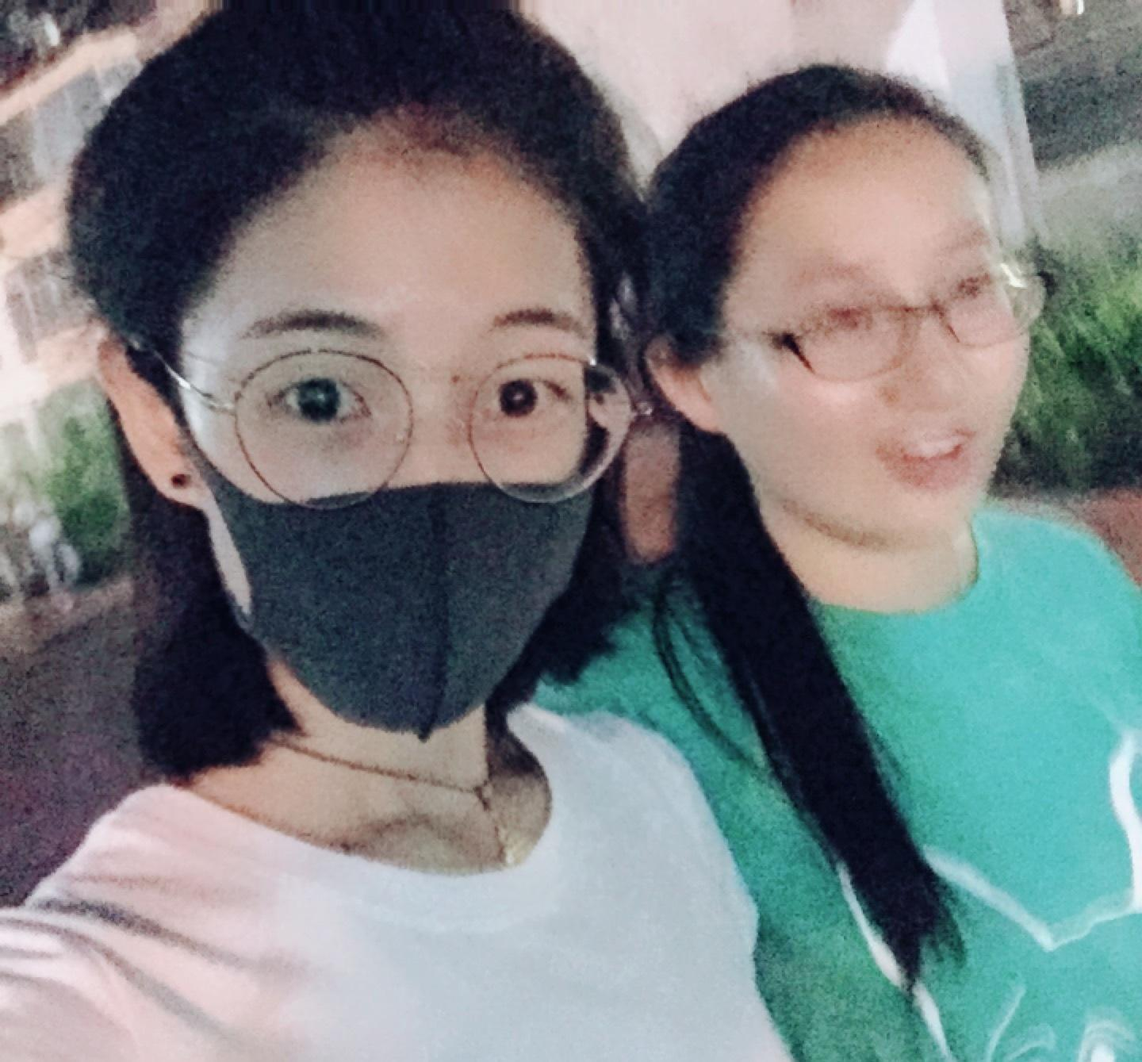NONE: (729, 228, 1027, 527)
OK: (181, 298, 619, 736)
